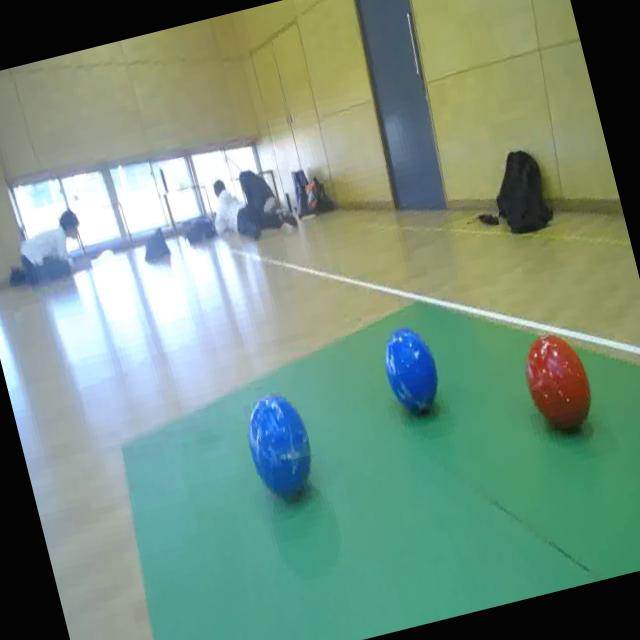blue_ball: (237, 384, 322, 506), (376, 319, 448, 424)
red_ball: (514, 324, 600, 441)
